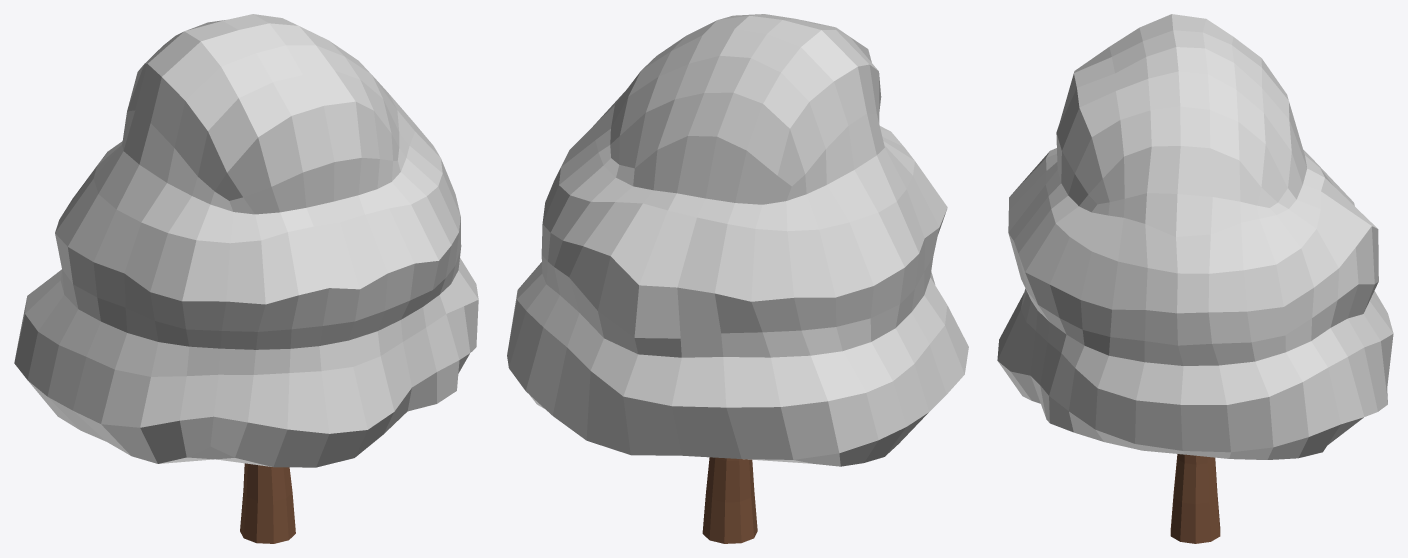
The model's file is arbolTalable.fbx.
3 renders of one model, left to right at view 1: azimuth 30°, elevation 25°; view 2: azimuth 150°, elevation 25°; view 3: azimuth 270°, elevation 25°, orthographic. The views are drawn at different scales.
Visible parts, largest first — view 1: Cube, tree; view 2: Cube, tree; view 3: Cube, tree.
Boxes of the visible parts, box(x1,y1,x2,y2) form: Cube: box(14, 14, 478, 467); tree: box(240, 463, 295, 543); Cube: box(507, 14, 968, 466); tree: box(702, 457, 757, 543); Cube: box(997, 14, 1393, 459); tree: box(1170, 454, 1220, 543).
Bounding box in the file's own units: 312 × 392 × 291.
